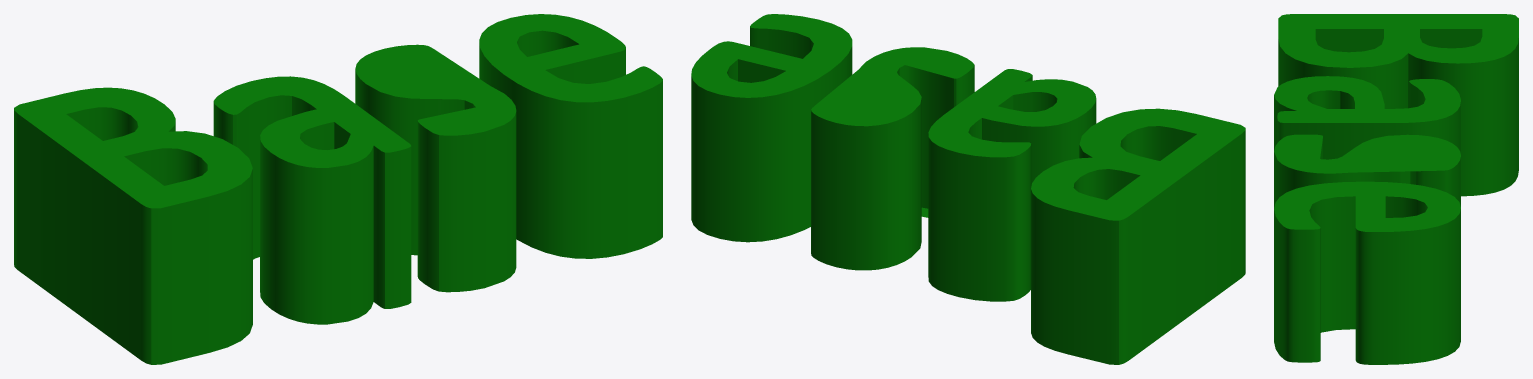
File: txtB.fbx
3 renders of one model, left to right at view 1: azimuth 30°, elevation 25°; view 2: azimuth 150°, elevation 25°; view 3: azimuth 270°, elevation 25°, orthographic. The views are drawn at different scales.
Visible parts, largest first — view 1: Base1; view 2: Base1; view 3: Base1.
Part boxes in pixels (x1=…): Base1: x1=14, y1=14, x2=662, y2=364; Base1: x1=691, y1=14, x2=1245, y2=364; Base1: x1=1274, y1=14, x2=1518, y2=364.
Size of the model in its own units: 34.42 by 9.78 by 16.33.
